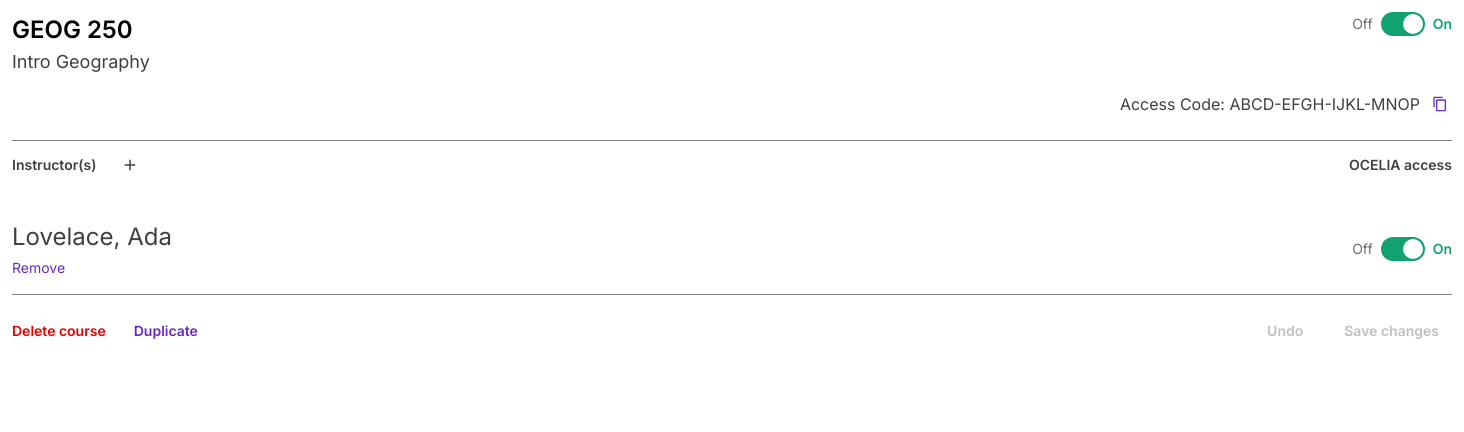
it: CourseDetail (staged editing) › shows an inline error when a staged save partially fails
Click the switch named "Course student access": (1403, 24) [1381,12,1425,36]
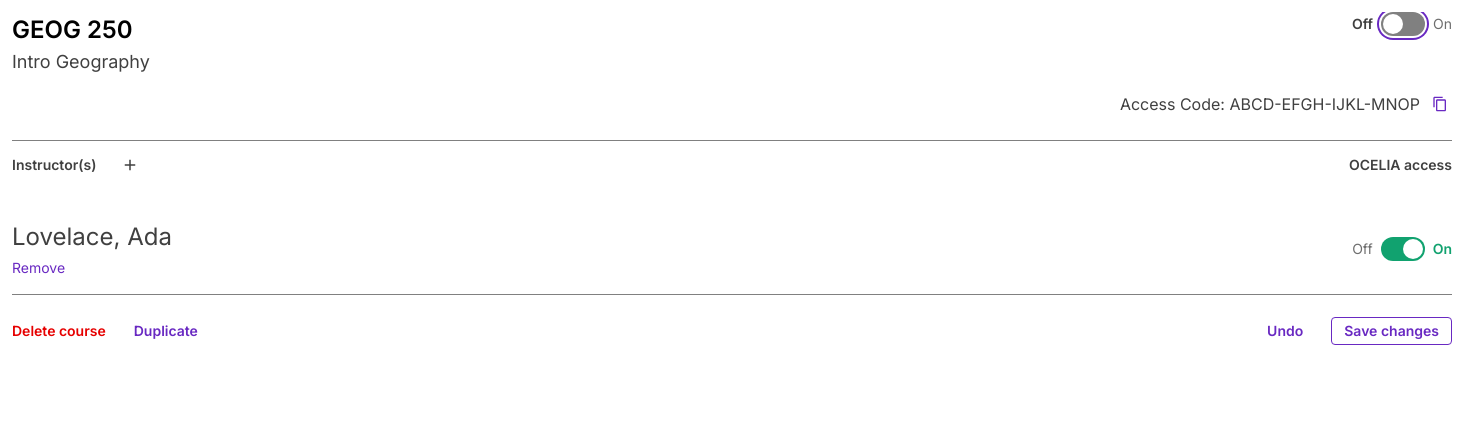
Click the button "Save changes": (1392, 331) [1331,317,1452,345]
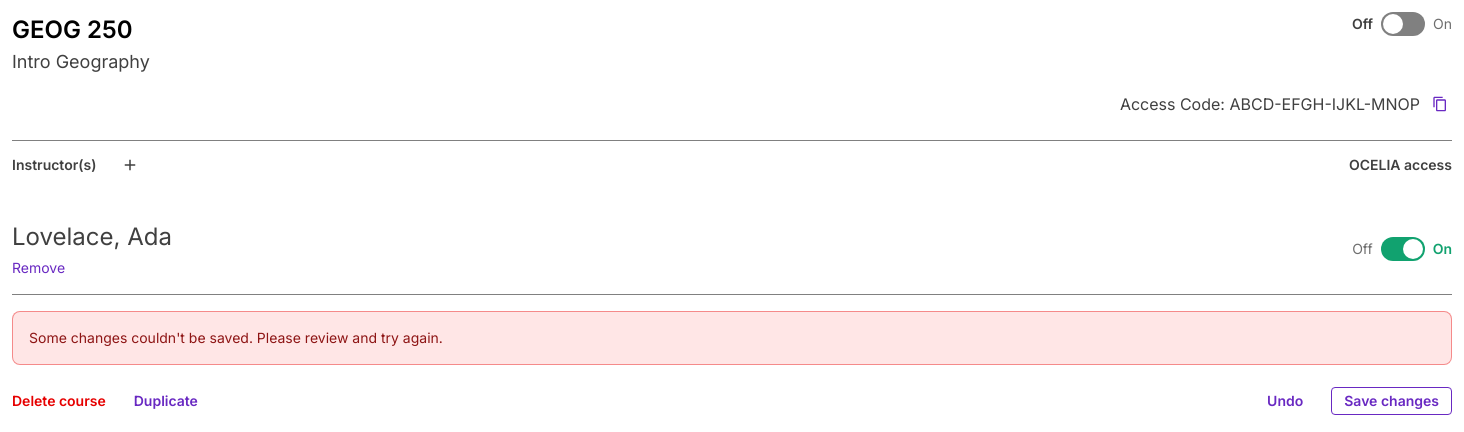
Expected: the message shows "couldn't be saved", [29,329,443,346]
